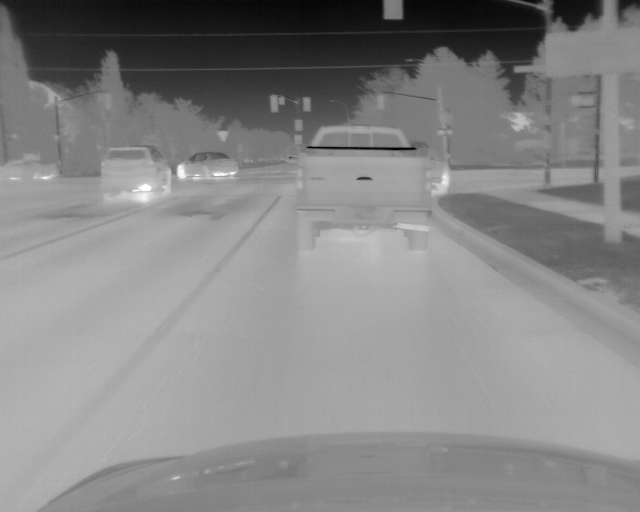car: (297, 125, 434, 249), (99, 145, 172, 205), (413, 140, 452, 198), (177, 150, 239, 181), (5, 158, 57, 184)
